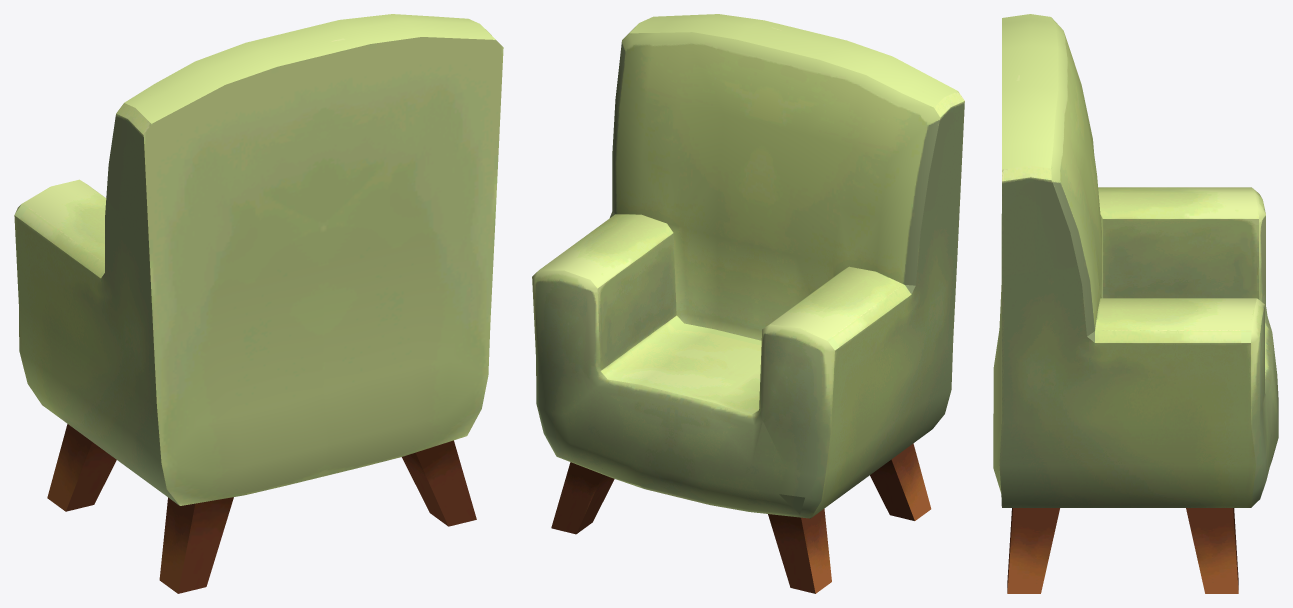
File: chair.FBX
3 renders of one model, left to right at view 1: azimuth 30°, elevation 25°; view 2: azimuth 150°, elevation 25°; view 3: azimuth 270°, elevation 25°, orthographic. The views are drawn at different scales.
Parts seen in each view (by area): view 1: Mesh_0025; view 2: Mesh_0025; view 3: Mesh_0025.
Boxes of the visible parts, x1,y1,x2,y2 form: Mesh_0025: [14, 14, 503, 593]; Mesh_0025: [532, 14, 964, 593]; Mesh_0025: [993, 14, 1278, 593].
Bounding box in the file's own units: 280 × 378 × 213.
